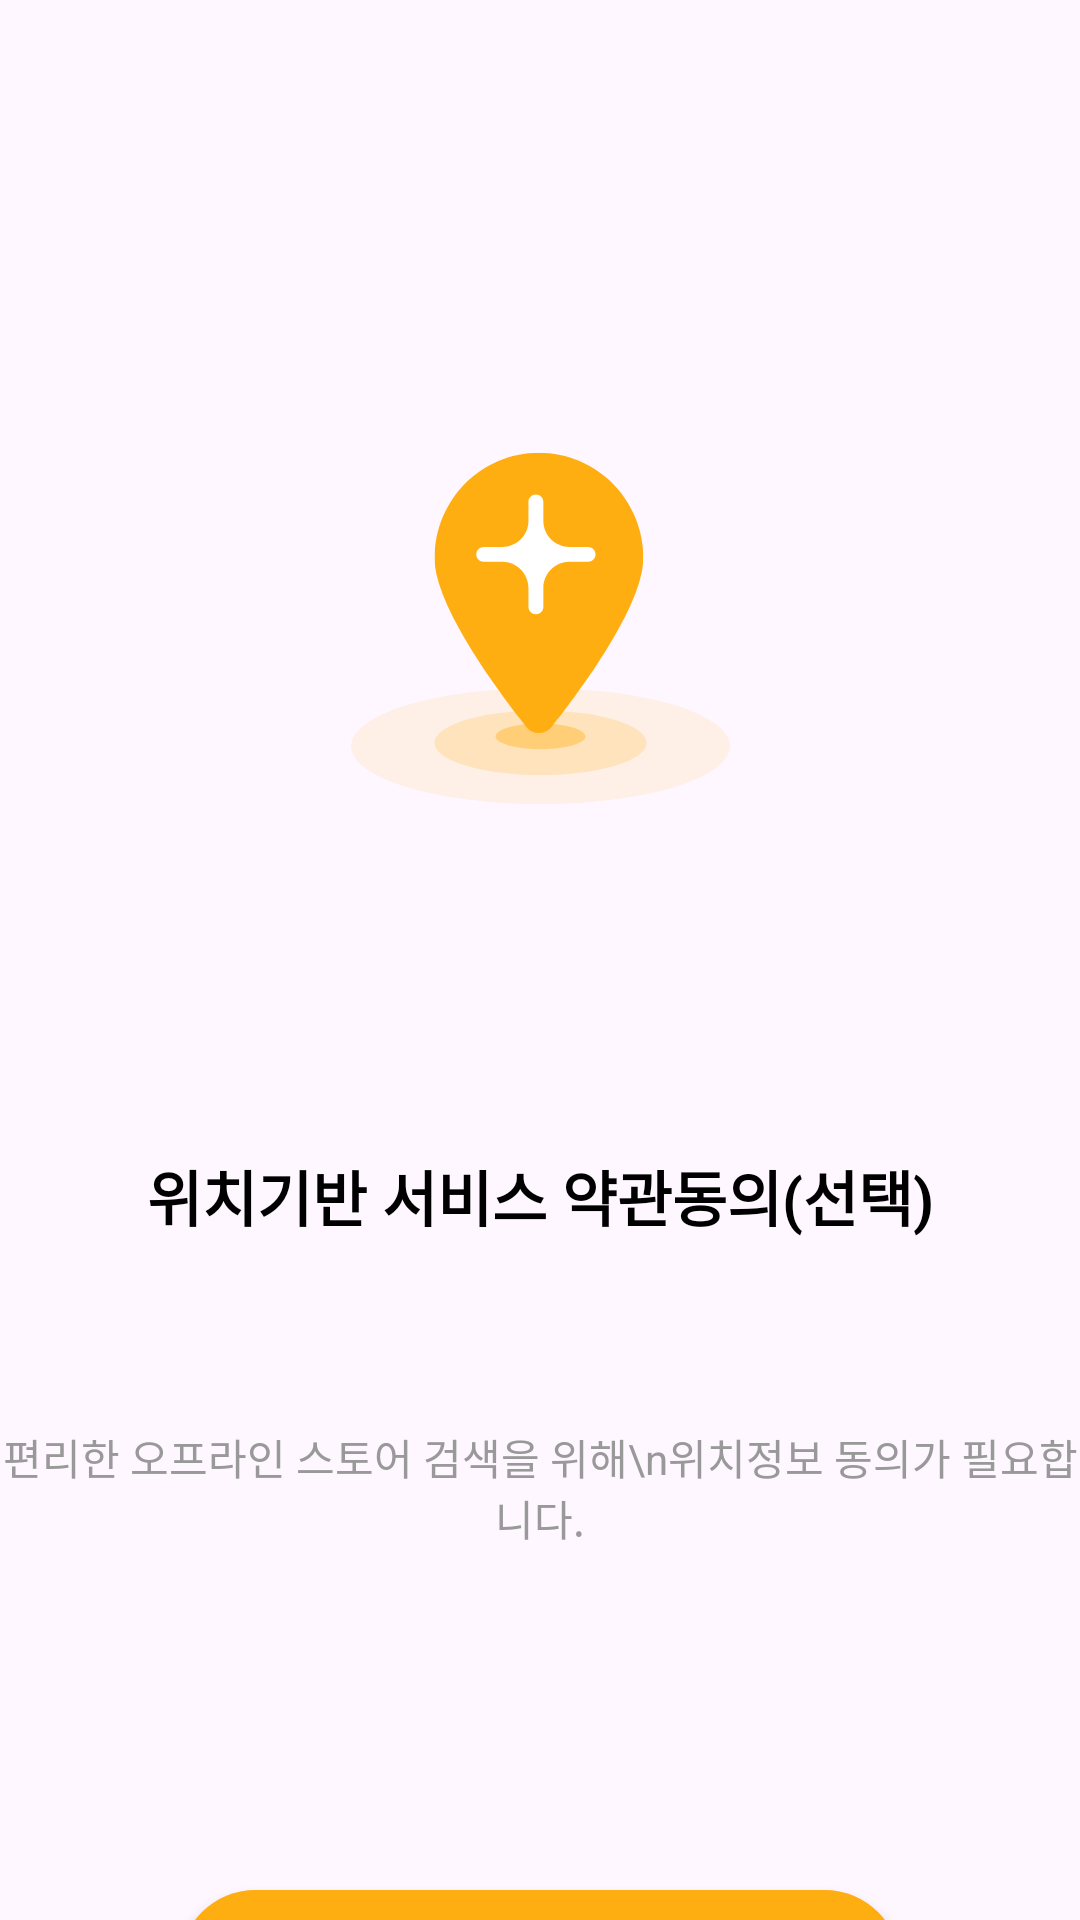

Icon bounding boxes for this 1080px x 1920px phone screenshot, format detection(x1, y1, x2, y2):
location permission: detection(434, 453, 647, 775)
